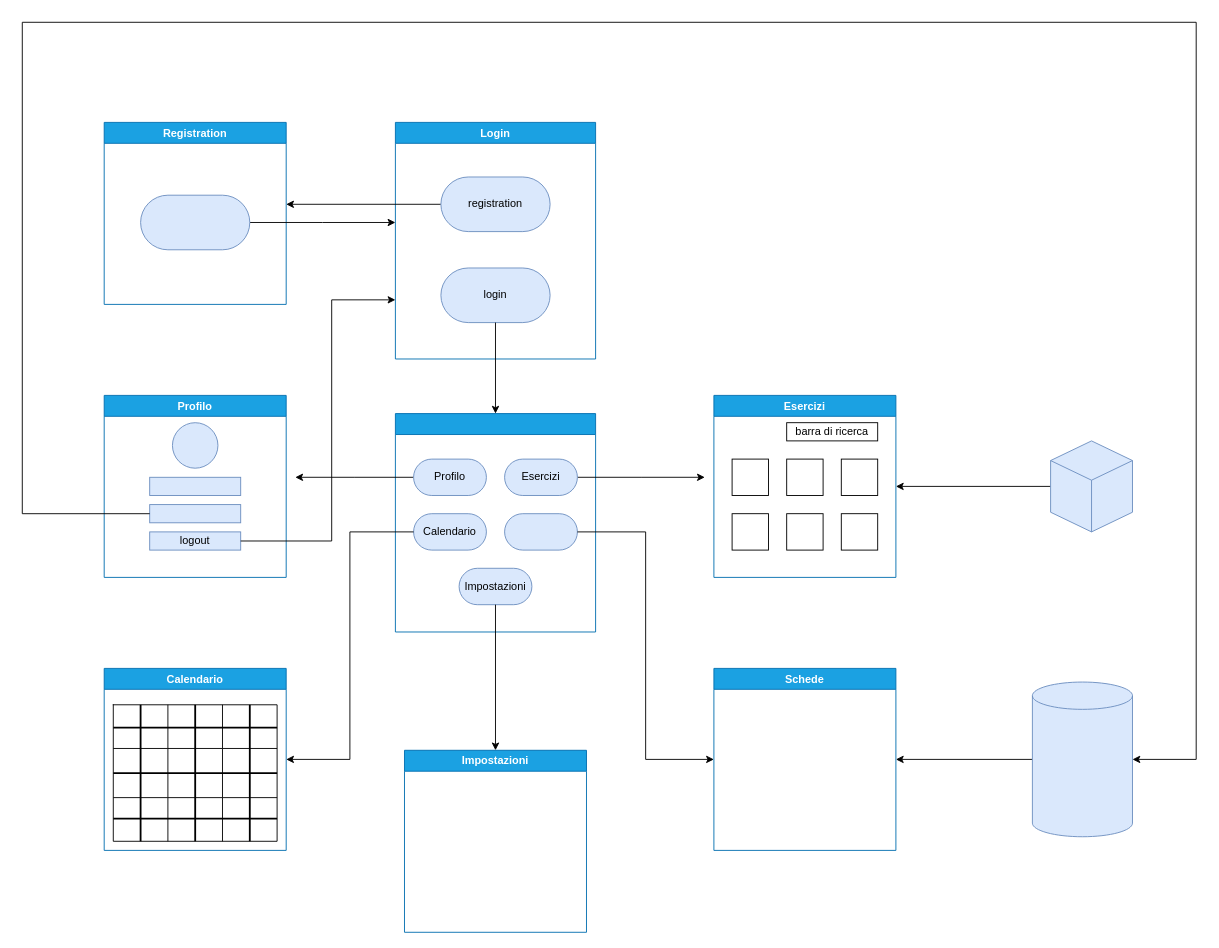
Some shapes in this 1219 by 948 pixel diagram are drawn without their labels. Here are the shapes that lost their labels. From the top down, the box of each, then its label:
(140, 194, 250, 250): register
(172, 422, 218, 468): foto profilo
(149, 476, 241, 495): dati personali
(1050, 440, 1132, 532): Server
(149, 504, 241, 523): progressi
(394, 413, 596, 632): Home
(504, 513, 577, 550): Scheda
(1031, 681, 1132, 837): Database
